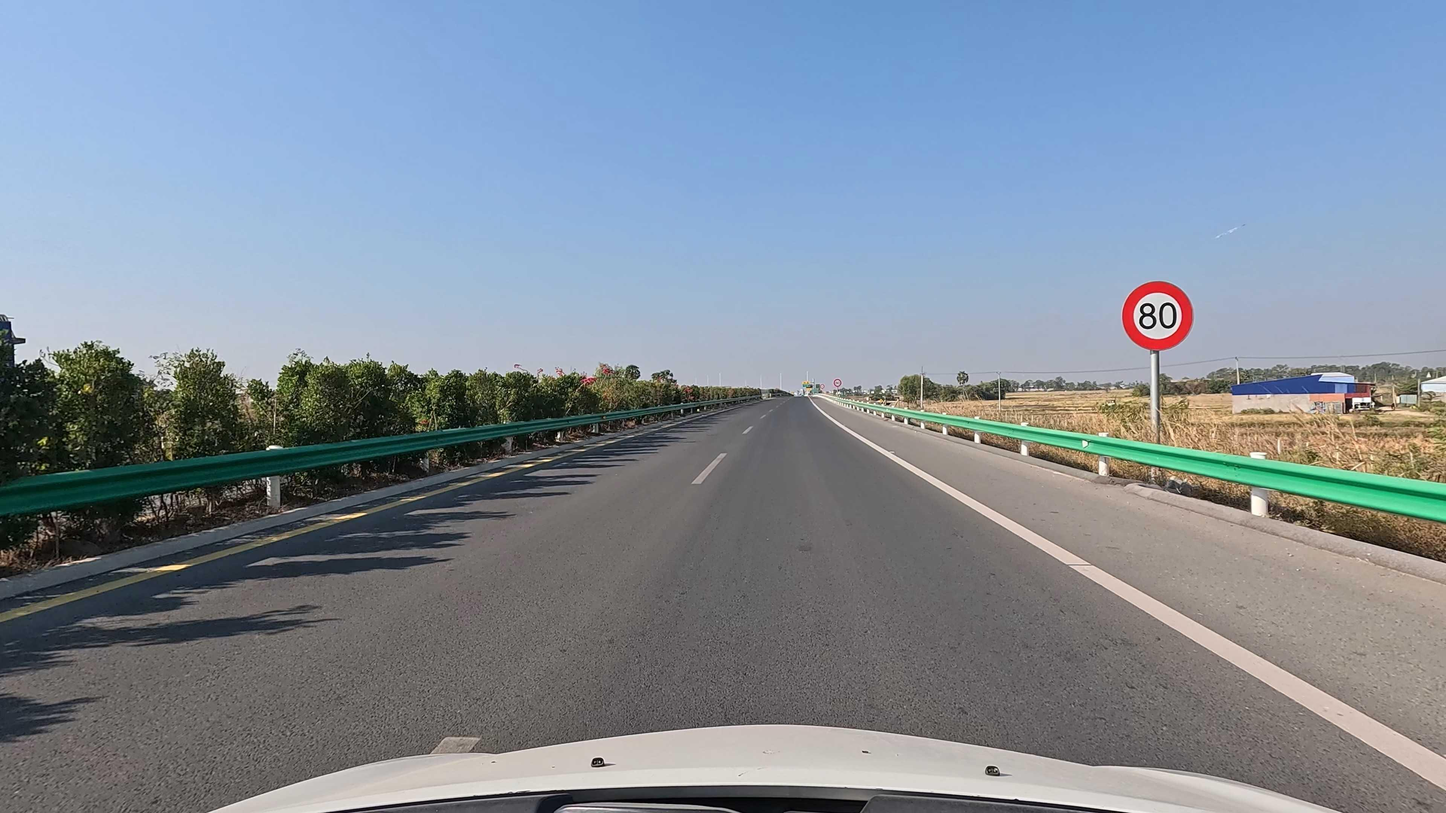speed_limit_60: (833, 378, 842, 388)
speed_limit_80: (1117, 273, 1199, 352)
